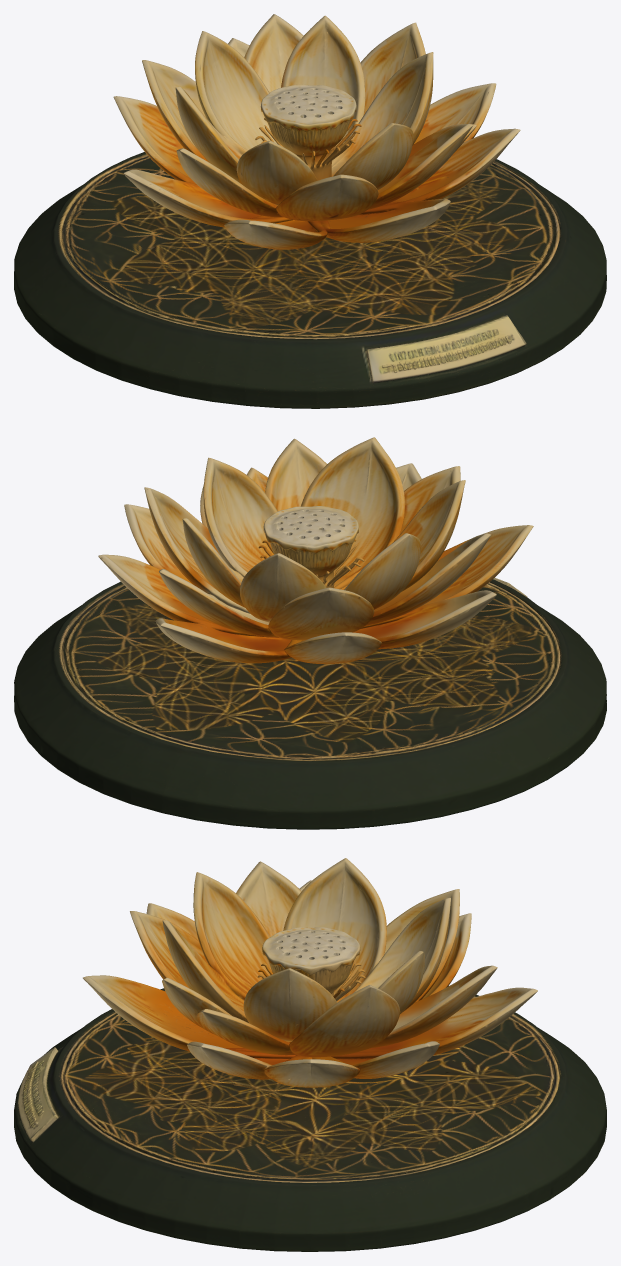
The model's file is grand-optimized.glb.
3 views of the same model, one above another, from view 1: azimuth 30°, elevation 25°; view 2: azimuth 150°, elevation 25°; view 3: azimuth 270°, elevation 25° (orthographic).
Visible parts, largest first — view 1: material; view 2: material; view 3: material.
Part boxes in pixels (x1,y1,x2,y2): material: [14, 14, 606, 408]; material: [14, 437, 606, 829]; material: [14, 858, 606, 1251].
Bounding box in the file's own units: 1.12 × 0.4416 × 1.12.
1 material, 1 textured.
